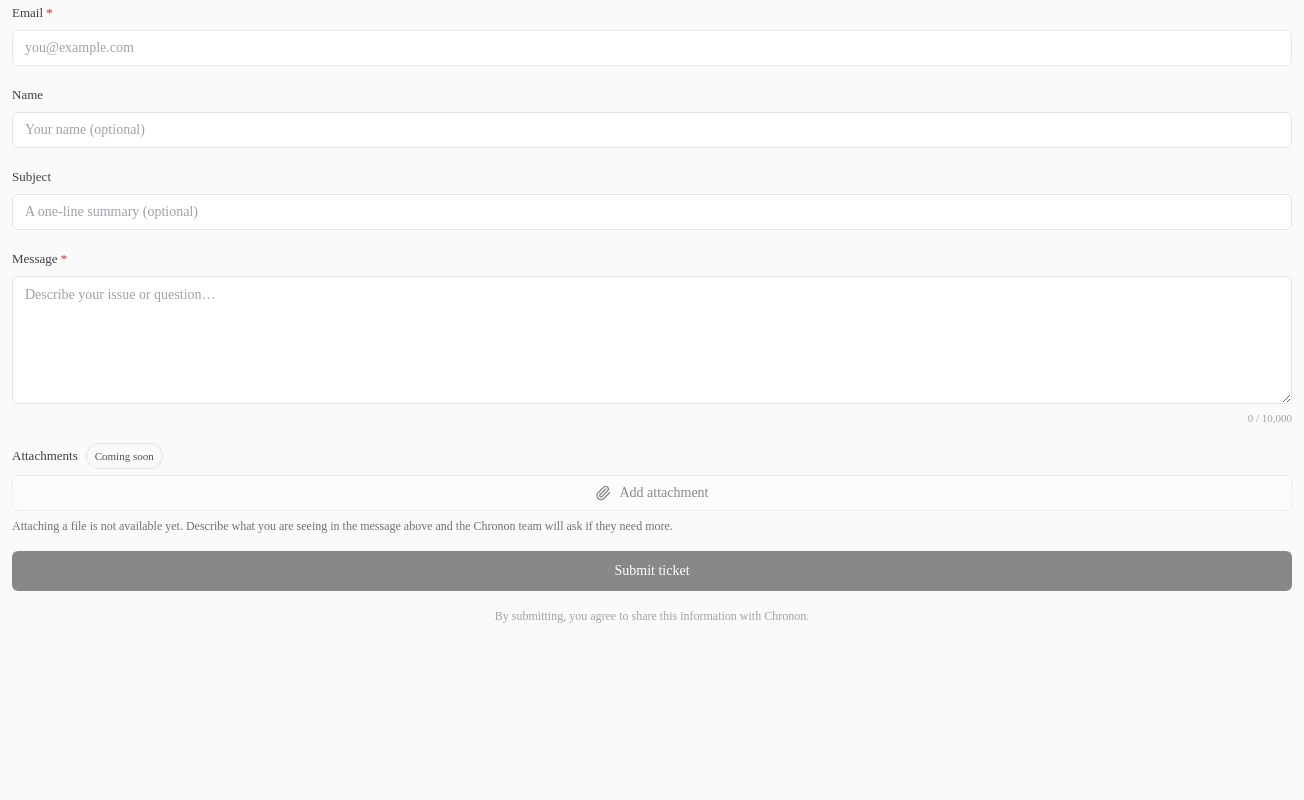
it: SubmitTicketForm › shows the failure reason and never the success panel
Type "ada@example.dev" into the field labelled "Email *".
click(652, 48); type("ada@example.dev")  # box [12,30,1292,66]
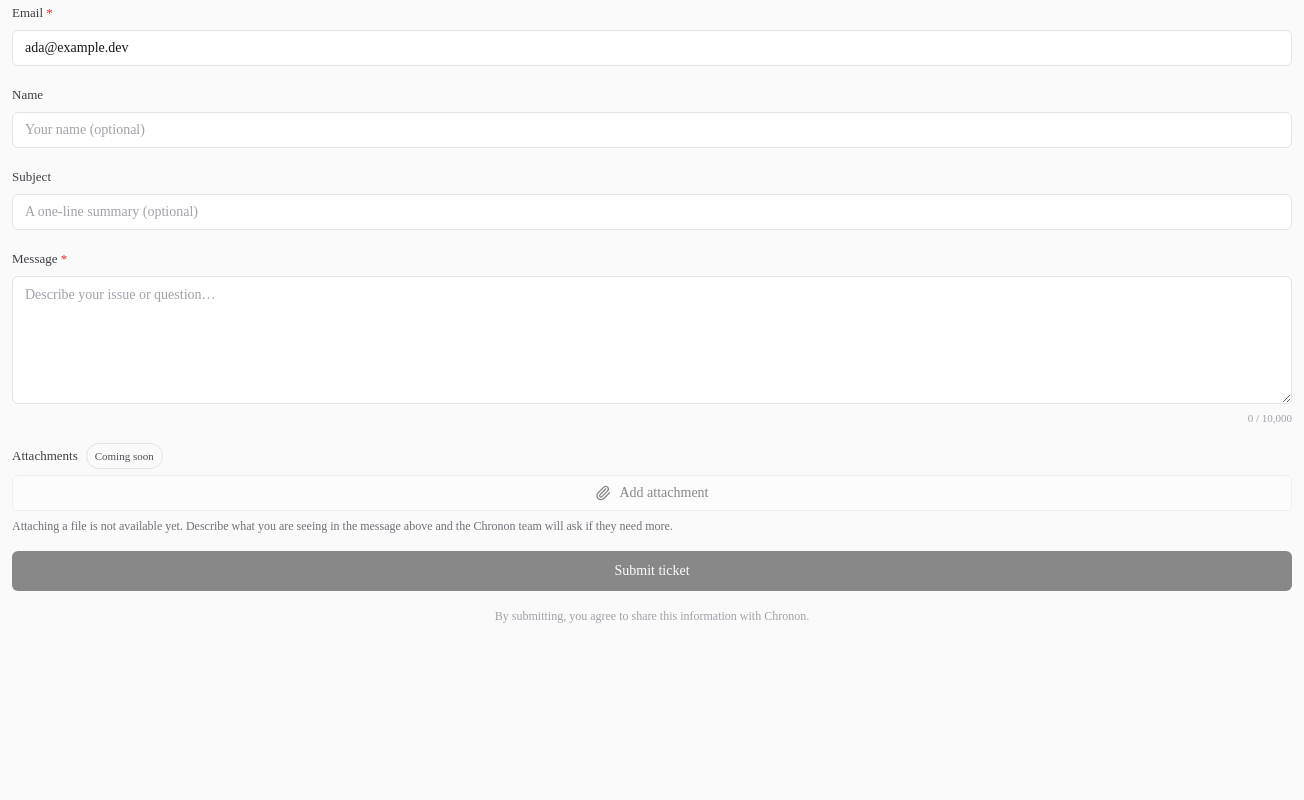
Type "Where is my order?" into the text box labelled "Message *".
click(652, 340); type("Where is my order?")  # box [12,276,1292,404]
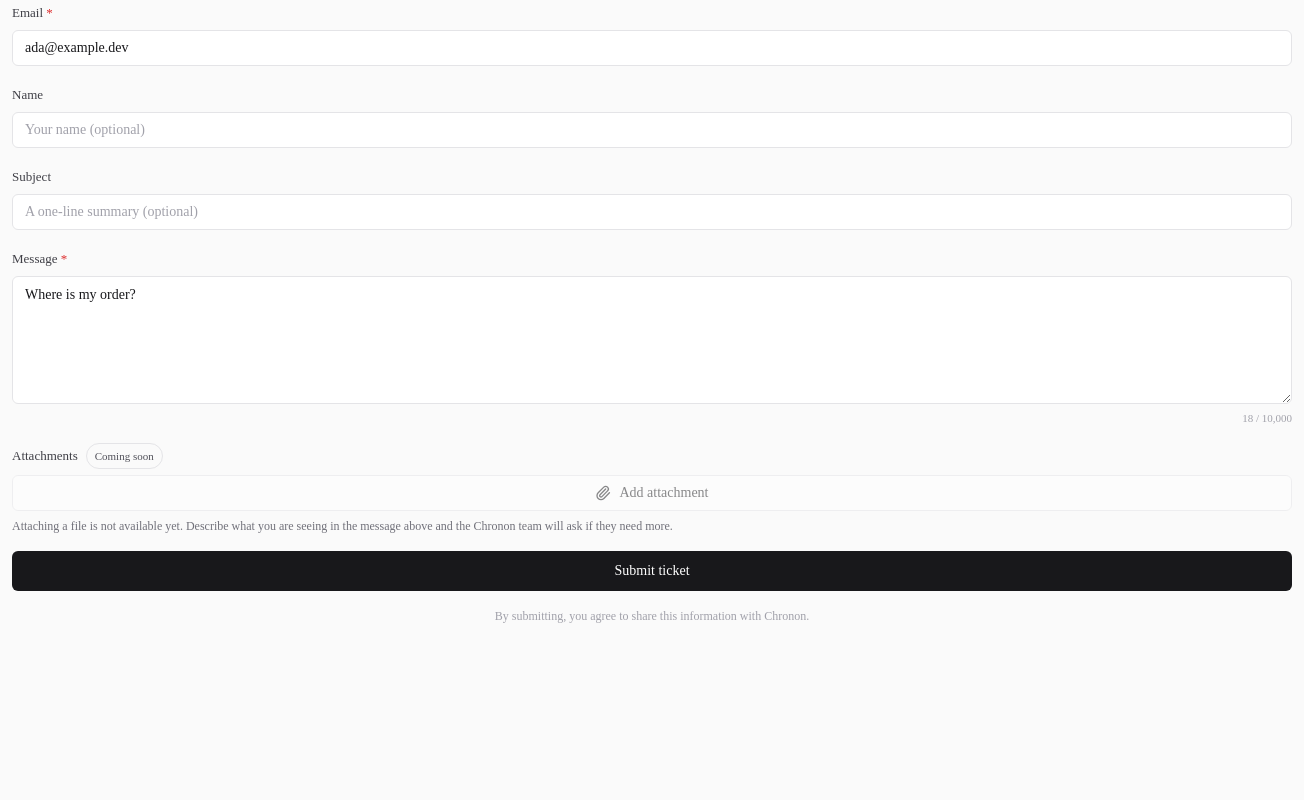
Click the button "Submit ticket".
click(652, 570)  # box [12,550,1292,590]
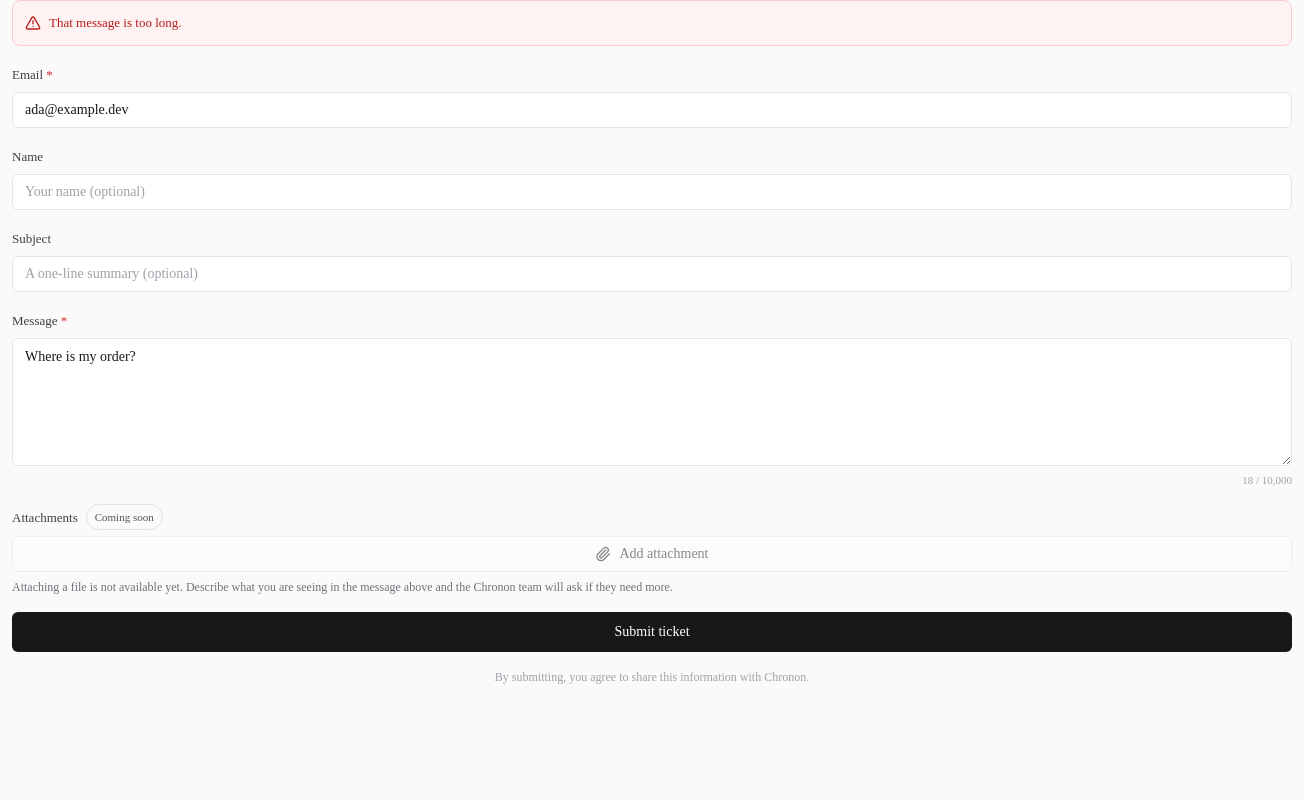
Expected: the button "Submit ticket" is shown, [12,612,1292,652]
Now the text "That message is too long." is shown, box [49,13,182,32]
